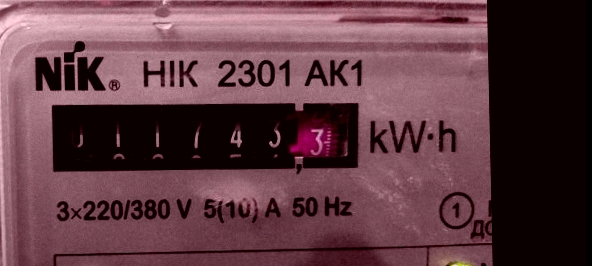0: (66, 115, 85, 152)
1: (149, 114, 164, 149), (112, 115, 122, 149)
3: (263, 115, 282, 150), (307, 126, 326, 159)
4: (226, 116, 243, 150)
7: (187, 116, 205, 150)
screen: (36, 86, 372, 187)
